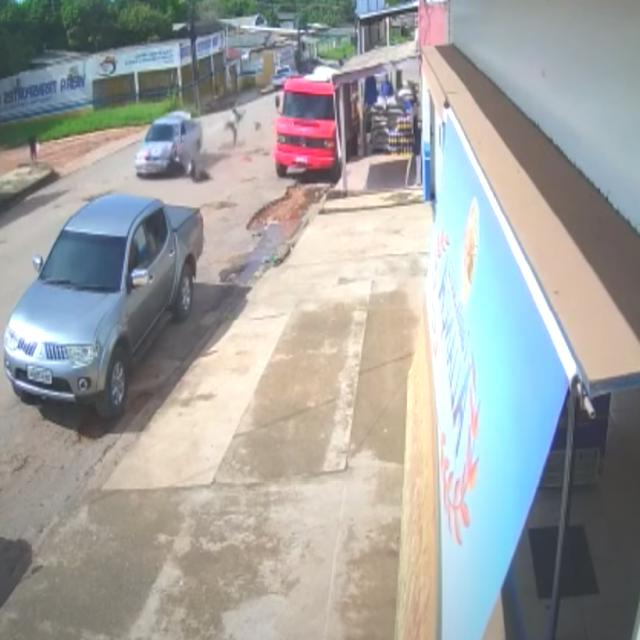accident: (134, 102, 248, 184)
